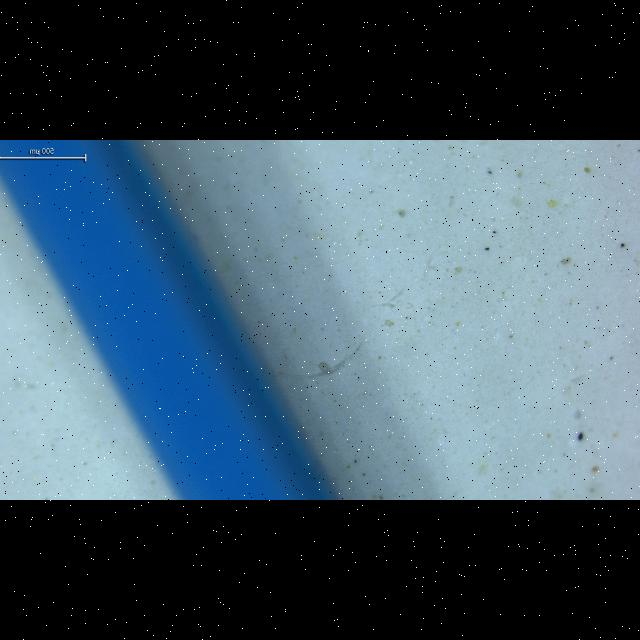Fibre: (286, 339, 366, 378)
Fragment: (318, 362, 330, 371)
